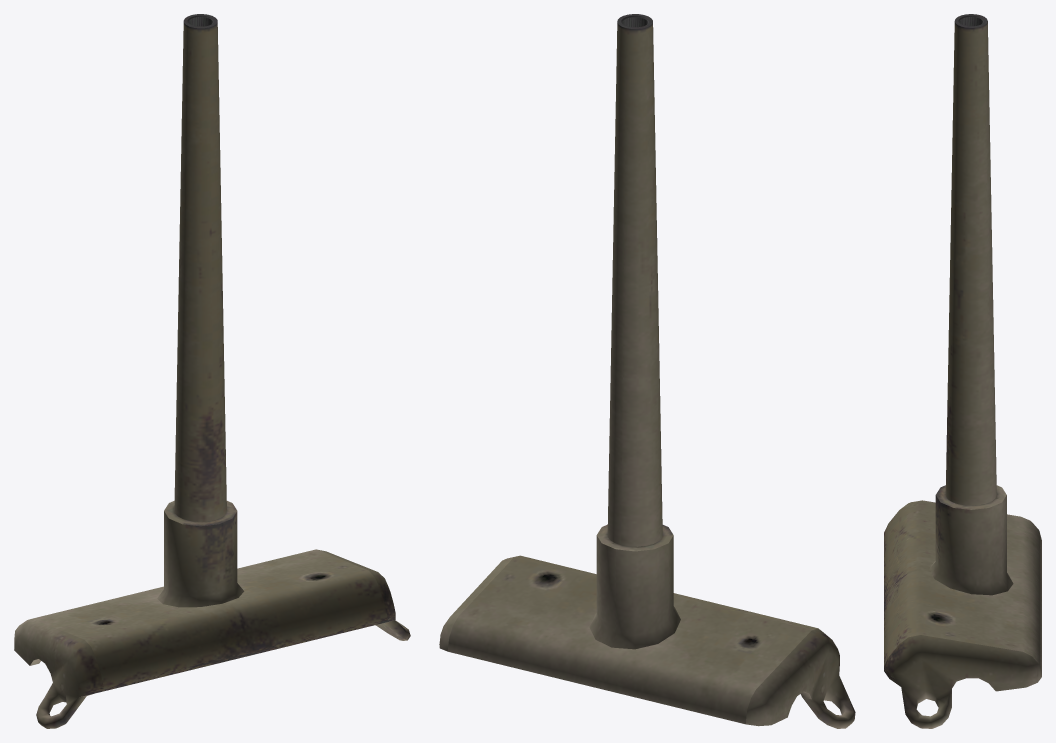
Rendered from Gun_03.glb.
3 renders of one model, left to right at view 1: azimuth 30°, elevation 25°; view 2: azimuth 150°, elevation 25°; view 3: azimuth 270°, elevation 25°, orthographic. The views are drawn at different scales.
Parts seen in each view (by area): view 1: set_0_group_0; view 2: set_0_group_0; view 3: set_0_group_0.
Part boxes in pixels (x1,y1,x2,y2): set_0_group_0: (14, 14, 410, 728); set_0_group_0: (439, 14, 855, 728); set_0_group_0: (884, 14, 1041, 728).
Size of the model in its own units: 1.34 by 2.26 by 0.5169.
1 material, 1 textured.
